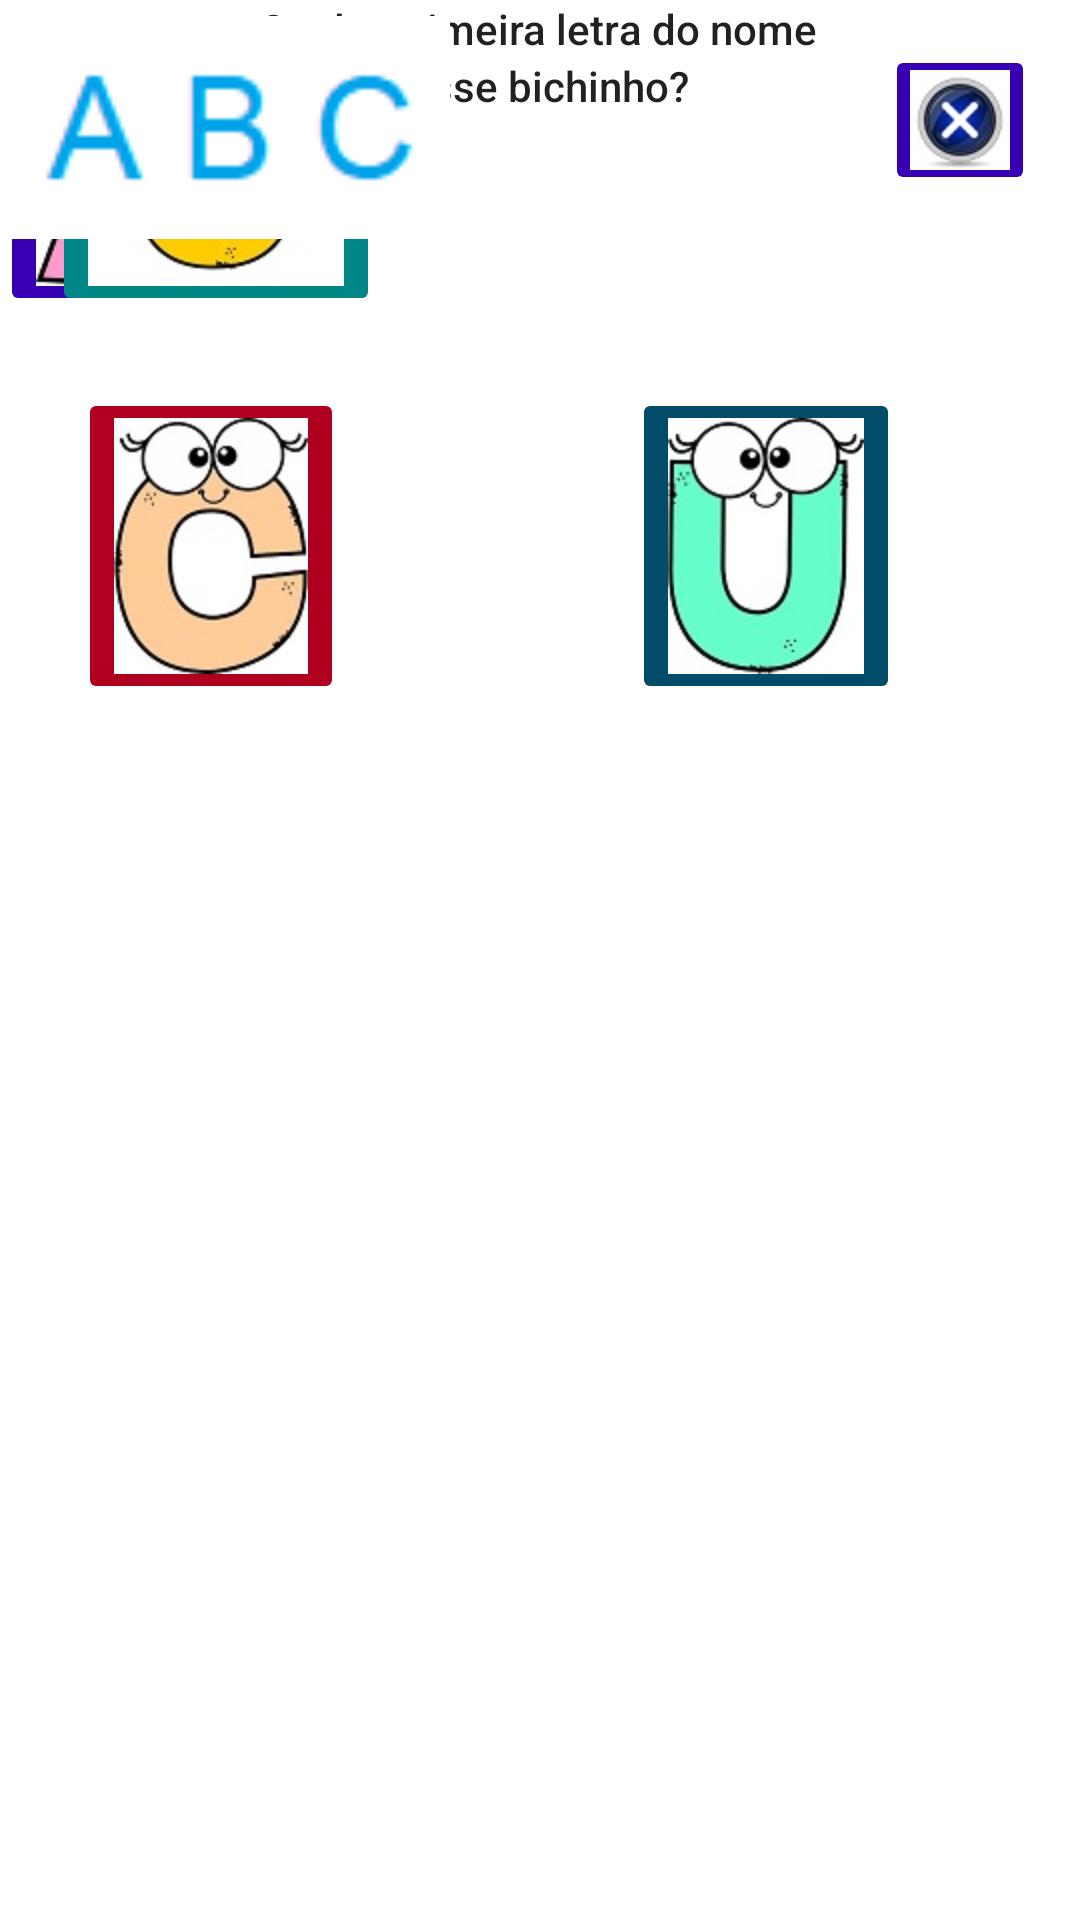

Where to tap for icons on this 1080*1920 app screen, as (x,y):
botaofechar: (960,120)
uuu: (766,546)
